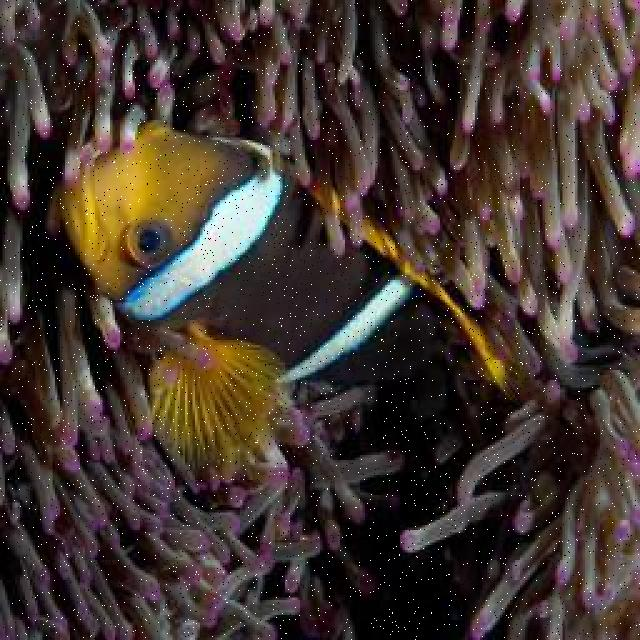fish: (56, 118, 548, 484)
